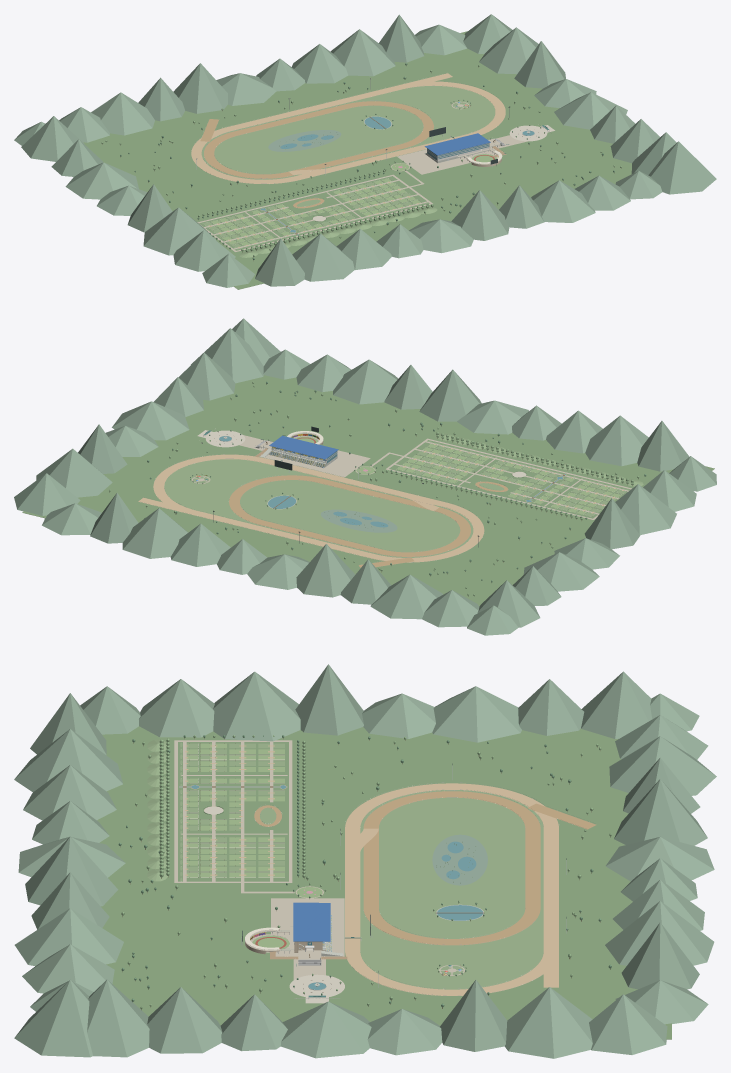
3 views of the same model, one above another, from view 1: azimuth 30°, elevation 25°; view 2: azimuth 150°, elevation 25°; view 3: azimuth 270°, elevation 25° (orthographic). The views are drawn at different scales.
Parts seen in each view (by area): view 1: mountain, grass, grass2, Key_Outer_racing_course, paving, Key_Inner_racing_course, lawn, leaf2, sandlight, wetland, Occluder_roofblue, water (+2 smaller); view 2: mountain, grass, grass2, Key_Outer_racing_course, paving, Key_Inner_racing_course, lawn, leaf2, wetland, sandlight, Occluder_roofblue, water (+2 smaller); view 3: mountain, grass, grass2, Key_Outer_racing_course, paving, Key_Inner_racing_course, lawn, leaf2, sandlight, wetland, Occluder_roofblue, water (+4 smaller).
Boxes of the visible parts, x1,y1,x2,y2 form: mountain: (14, 14, 716, 287); grass: (83, 31, 631, 289); grass2: (201, 86, 495, 257); Key_Outer_racing_course: (191, 81, 505, 183); paving: (197, 101, 527, 251); Key_Inner_racing_course: (204, 101, 433, 178); lawn: (211, 154, 496, 245); leaf2: (101, 65, 621, 256); sandlight: (209, 73, 470, 247); wetland: (268, 130, 341, 151); Occluder_roofblue: (425, 133, 490, 155); water: (260, 116, 534, 235); mountain: (14, 318, 716, 635); grass: (22, 375, 714, 606); grass2: (164, 433, 643, 557); Key_Outer_racing_course: (153, 454, 484, 562); paving: (192, 435, 631, 519); Key_Inner_racing_course: (229, 475, 470, 556); lawn: (295, 436, 621, 514); leaf2: (109, 381, 639, 596); wetland: (320, 509, 397, 532); sandlight: (138, 444, 623, 514); Occluder_roofblue: (269, 435, 338, 459); water: (219, 436, 565, 527); mountain: (14, 664, 716, 1058); grass: (97, 726, 671, 1039); grass2: (147, 739, 543, 989); Key_Outer_racing_course: (345, 783, 558, 995); paving: (174, 740, 464, 979); Key_Inner_racing_course: (363, 791, 540, 945); lawn: (186, 743, 322, 949); leaf2: (121, 735, 611, 1009); sandlight: (179, 745, 558, 987); wetland: (432, 834, 487, 885); Occluder_roofblue: (293, 902, 330, 941); water: (179, 785, 482, 989).
Size of the model in its own units: 1485 by 106 by 1215.
